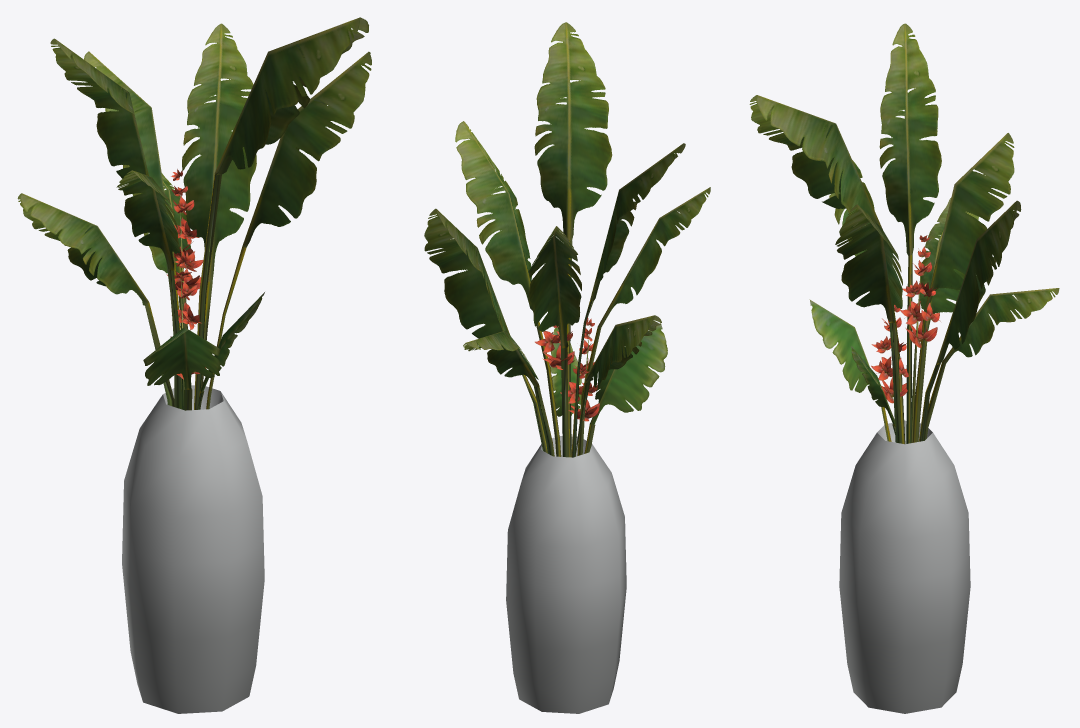
File: M_zhiwu01.FBX
The picture shows the model from 3 angles, left to right: view 1: azimuth 30°, elevation 25°; view 2: azimuth 150°, elevation 25°; view 3: azimuth 270°, elevation 25°; orthographic projection. The views are drawn at different scales.
Visible parts, largest first — view 1: M_zhiwu01_02, M_zhiwu01_01; view 2: M_zhiwu01_02, M_zhiwu01_01; view 3: M_zhiwu01_02, M_zhiwu01_01.
Part boxes in pixels (box(x1,y1,x2,y2)): M_zhiwu01_02: box(17, 17, 371, 410); M_zhiwu01_01: box(122, 385, 264, 713); M_zhiwu01_02: box(424, 22, 710, 457); M_zhiwu01_01: box(506, 436, 626, 713); M_zhiwu01_02: box(749, 23, 1059, 444); M_zhiwu01_01: box(839, 420, 970, 713).
Size of the model in its own units: 0.8903 by 2.03 by 0.9282.
